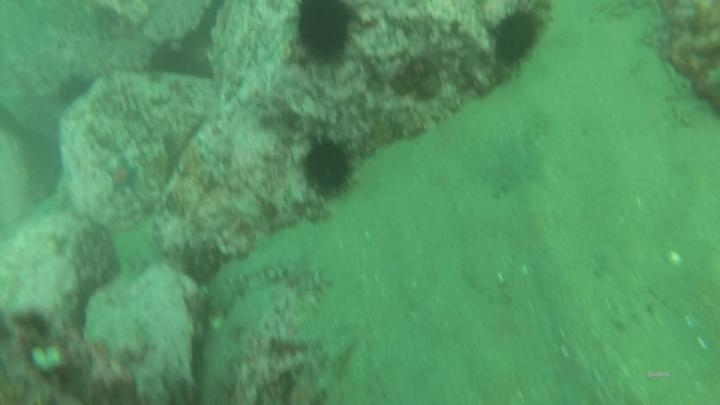echinus: (291, 2, 365, 72), (302, 137, 355, 201), (493, 6, 544, 70)
starfish: (105, 158, 142, 196)
